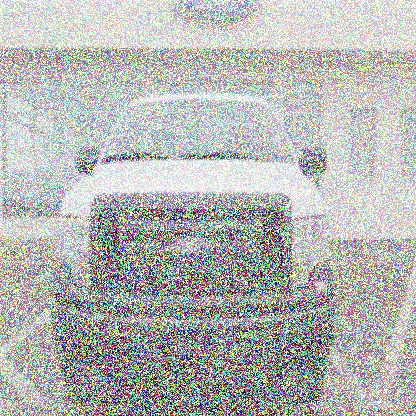Vehicle: (47, 93, 341, 408)
